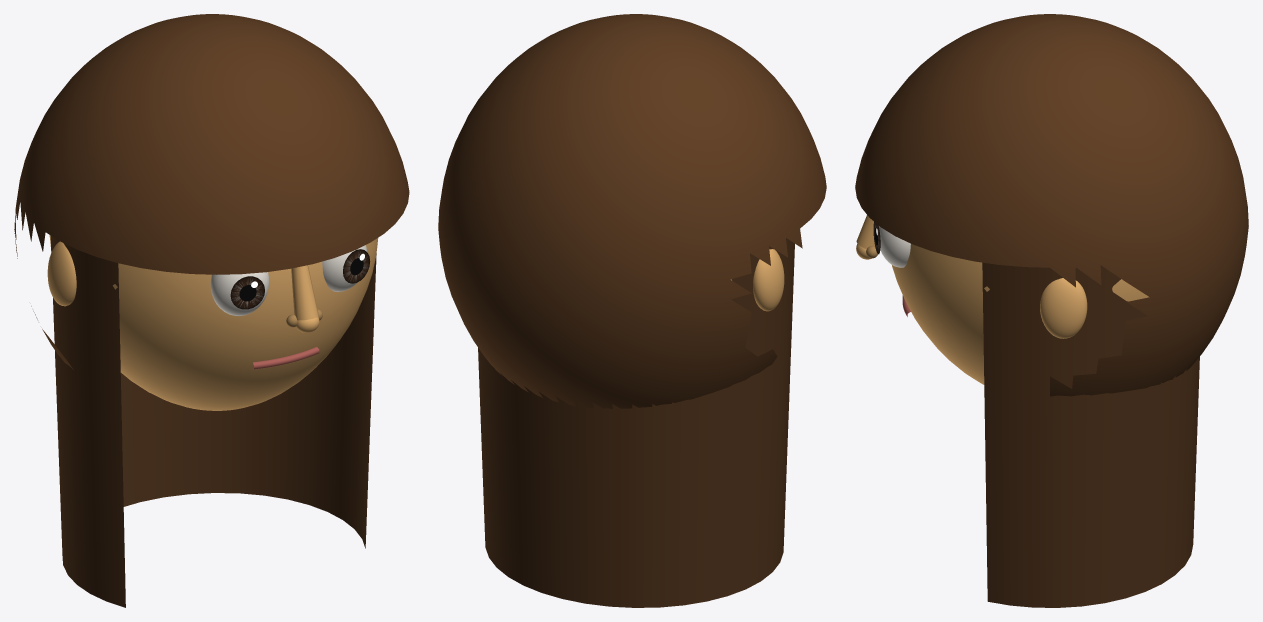
Rendered from homme-08-longs.glb.
The picture shows the model from 3 angles, left to right: view 1: azimuth 30°, elevation 25°; view 2: azimuth 150°, elevation 25°; view 3: azimuth 270°, elevation 25°; orthographic projection.
Size of the model in its own units: 0.3403 by 0.5005 by 0.3475.
Materials: 11 (1 with a texture image).
